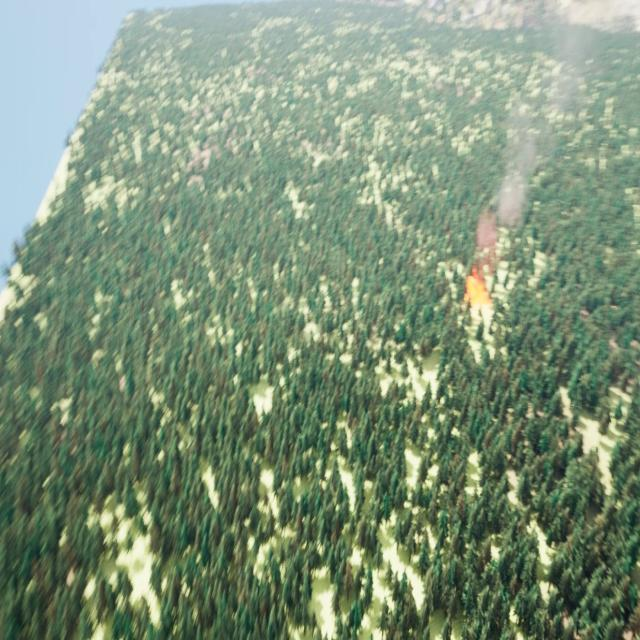fire: (465, 269, 489, 304)
smoke: (477, 58, 579, 259)
